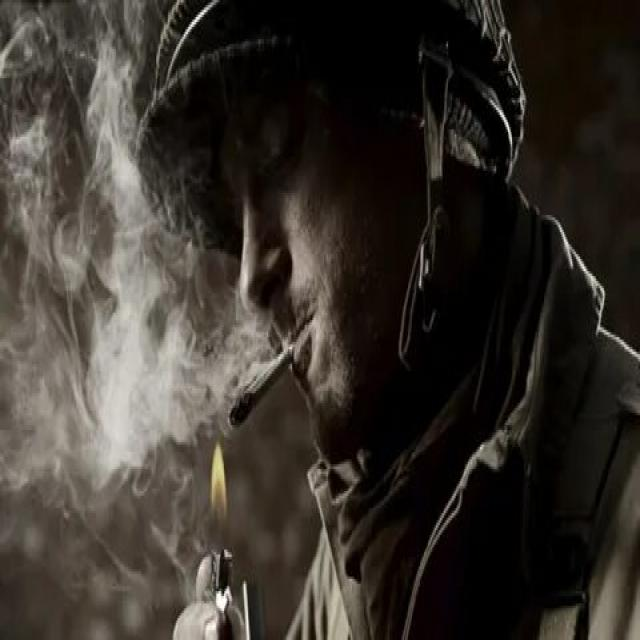cigarette: (228, 327, 297, 435)
